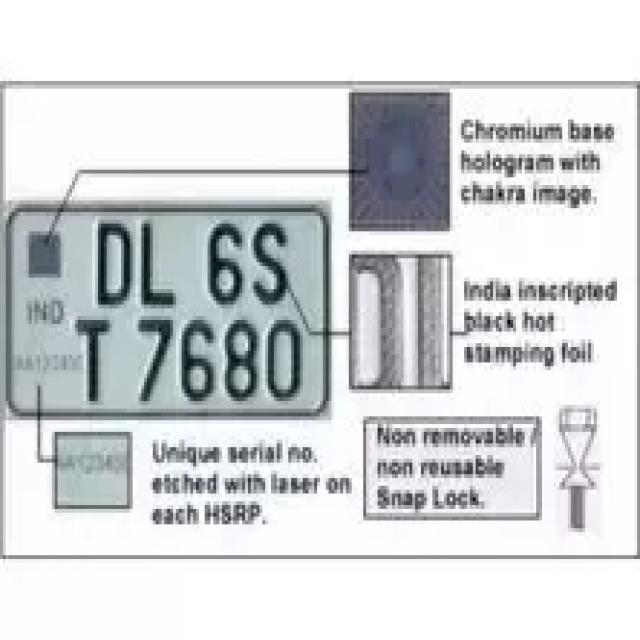license_plate: (3, 205, 331, 416)
